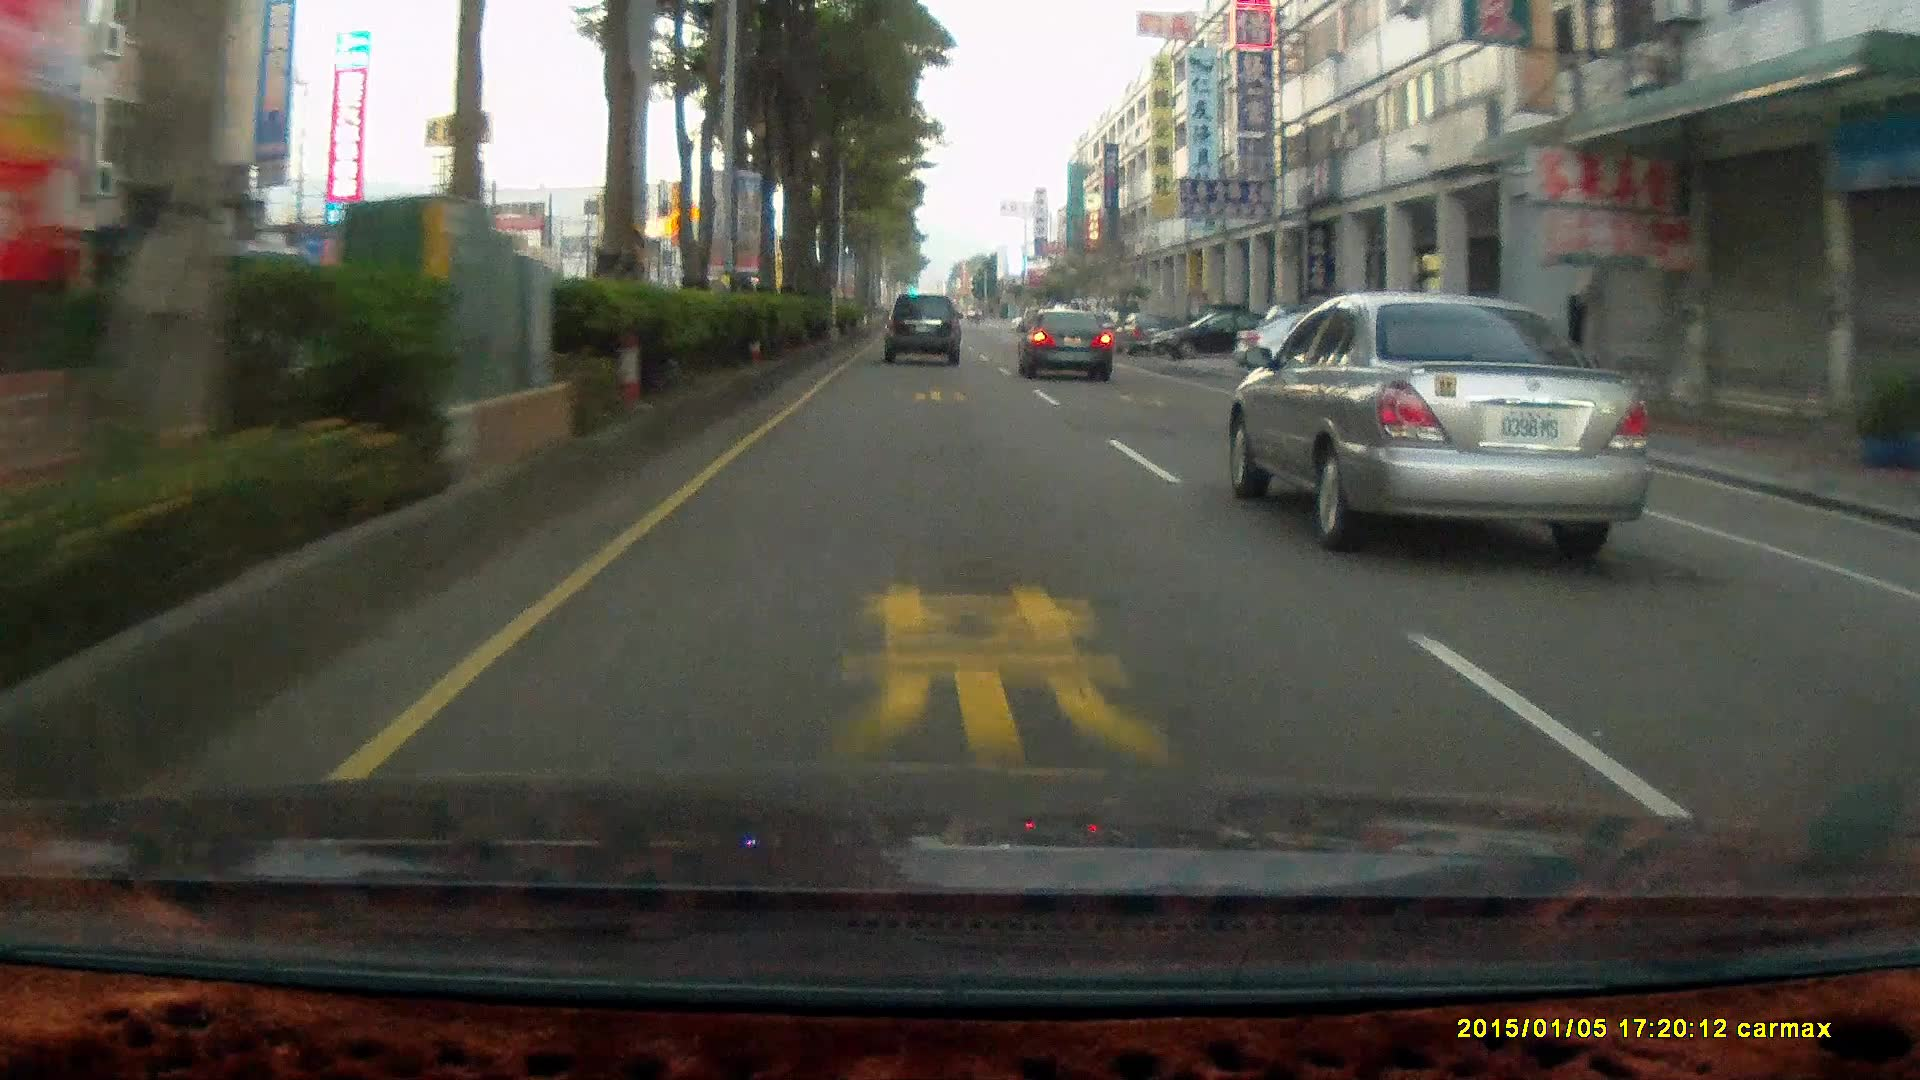vehicle: (1226, 286, 1673, 550), (1429, 316, 1630, 460), (1232, 309, 1424, 385), (1017, 309, 1114, 382), (1017, 309, 1116, 381), (1147, 307, 1282, 359), (884, 291, 965, 368), (882, 291, 963, 364), (1112, 311, 1171, 355)
